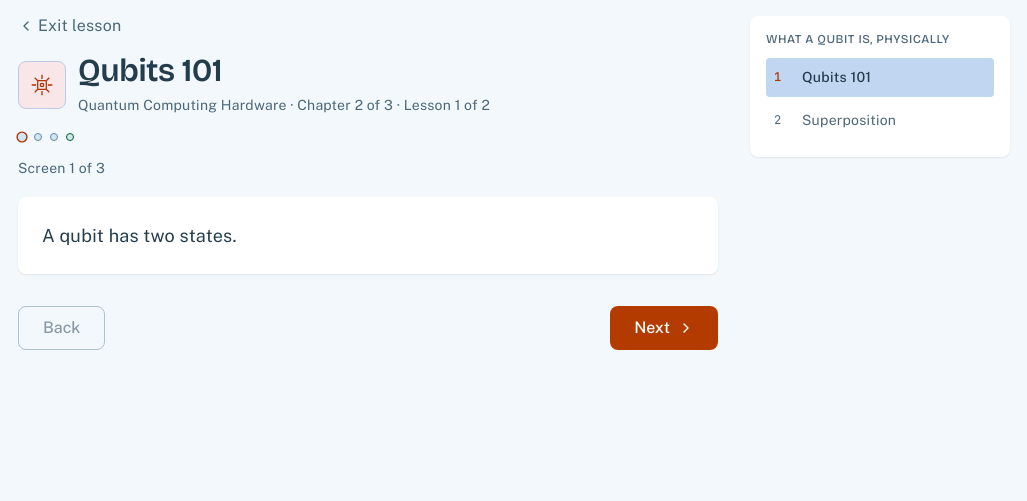
Test case: an explanation screen has Next enabled immediately and advances on click
Expected: the text "A qubit has two states." is shown, [42, 225, 237, 246]
Click the button "Next".
click(664, 328)  # box [610, 306, 718, 350]
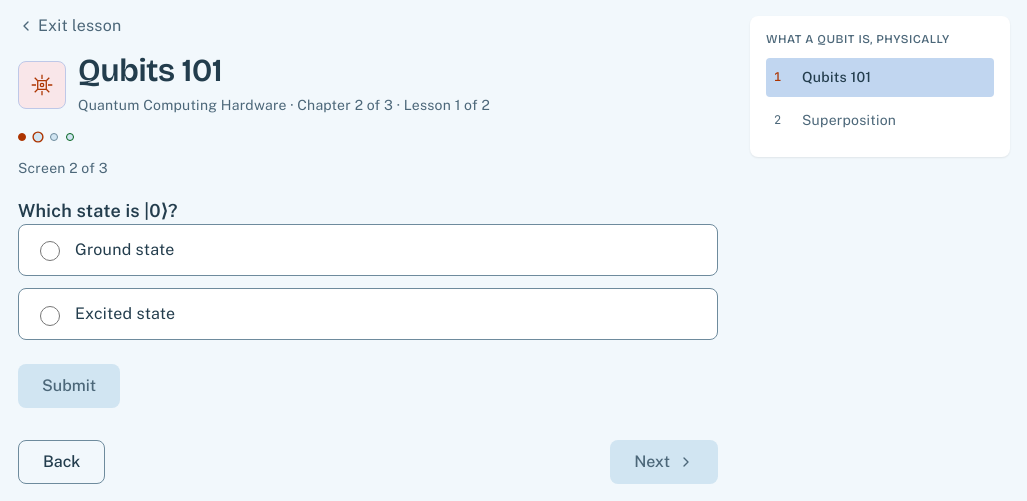
Expected: the text "Screen 2 of 3" is shown, [18, 160, 108, 176]
Expected: the text "Which state is |0⟩?" is shown, [18, 197, 178, 224]
